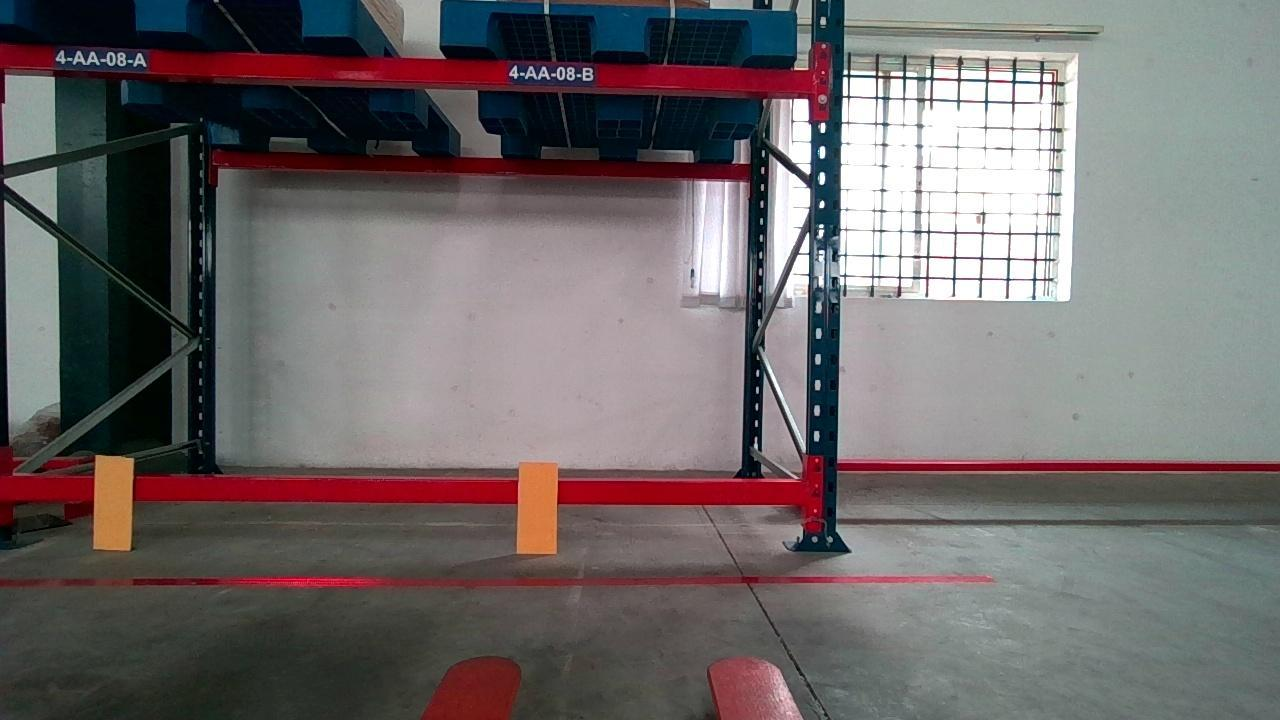h_rack: (1, 47, 817, 90), (3, 476, 803, 503)
orange_strip: (93, 457, 137, 552), (518, 464, 557, 554)
red_line: (3, 571, 995, 587)
small_pallet: (437, 0, 798, 56)
